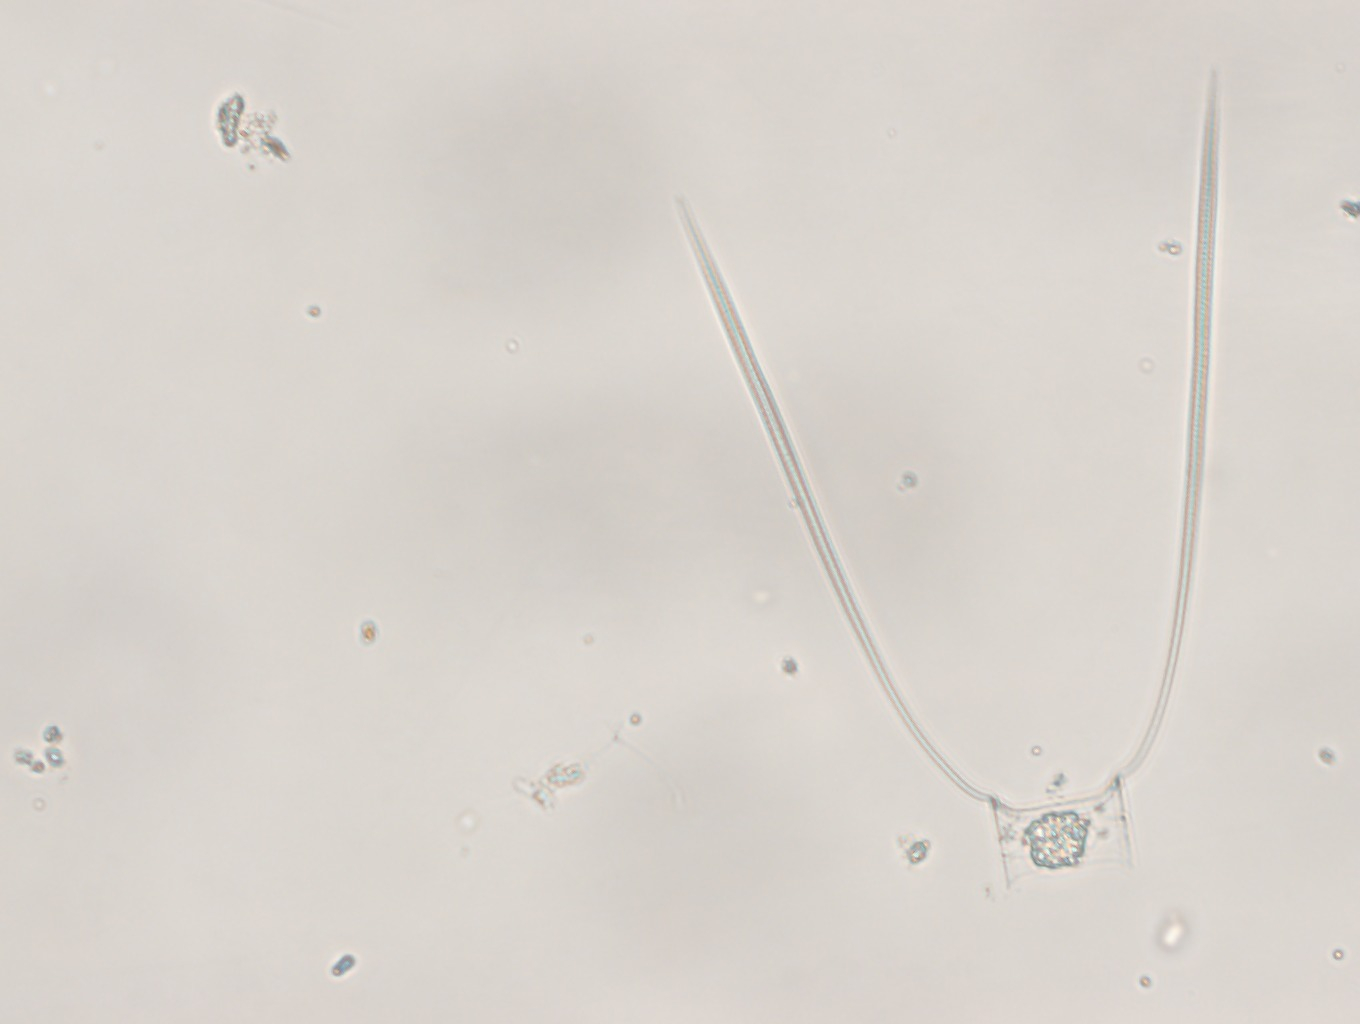chaetoceros: (663, 65, 1265, 892)
